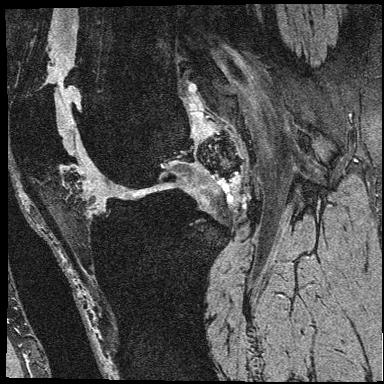SagKneeJointArea: (8, 82, 232, 289)
